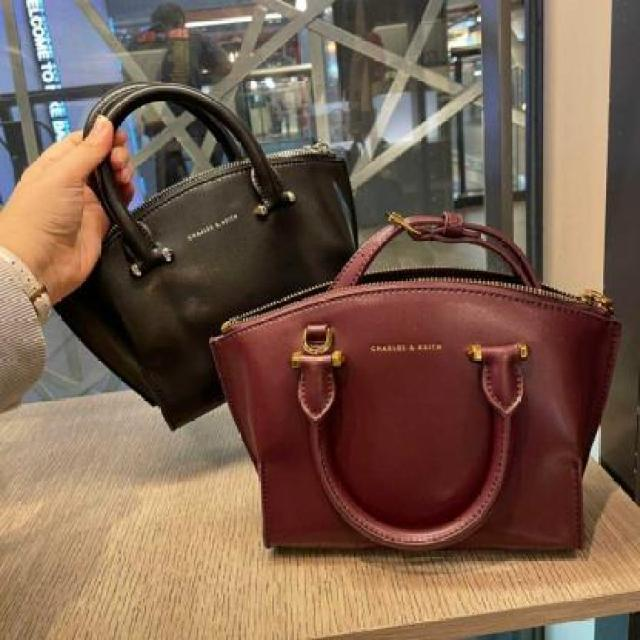Bag: (198, 170, 640, 628), (27, 53, 425, 522)
